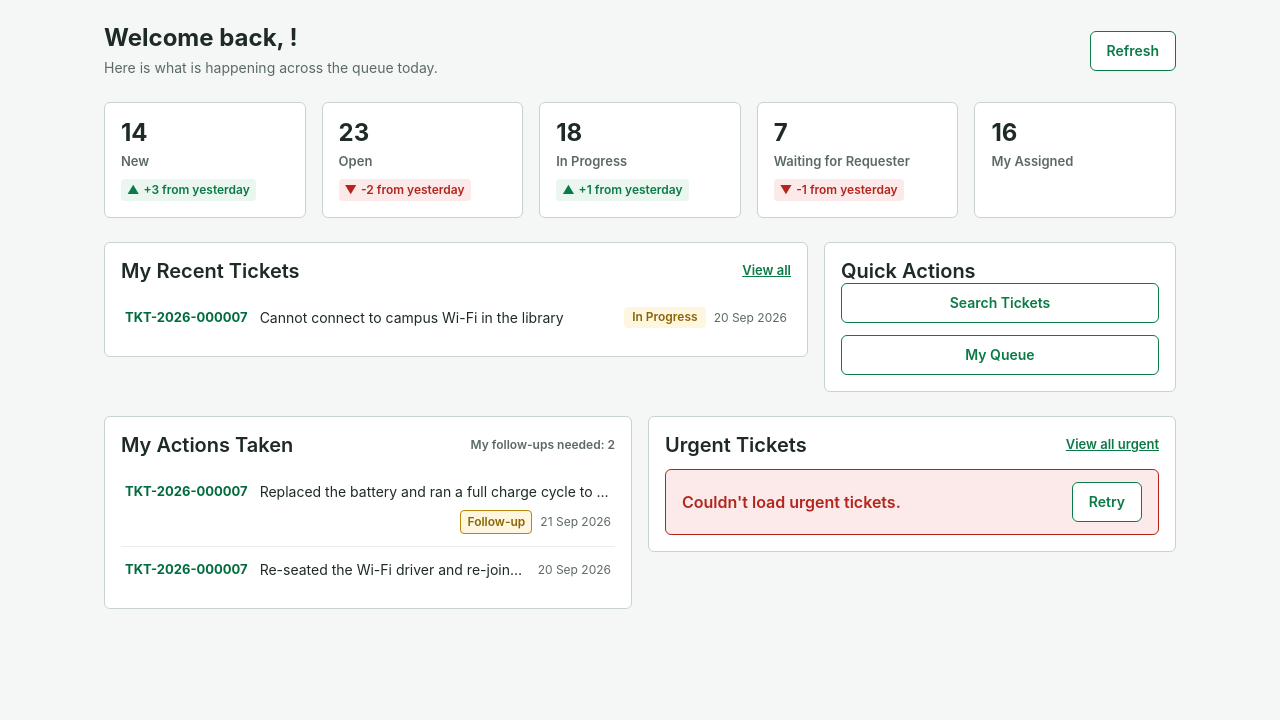
UI-12 — Urgent Tickets panel (FR-18, AC-16) › fails alone: friendly retry here, every other section still renders
The width and height of the screenshot is (1280, 720).
Check: the message with test id "urgent-tickets-error" shows "Couldn't load urgent tickets", box [682,492,901,512]
Check: the list with test id "my-actions-list" is shown, box [121,469,615,592]
# Retry recovers only this section.
Step 1. Click the button "Retry" → [1107, 502], box [1072,482,1142,522]
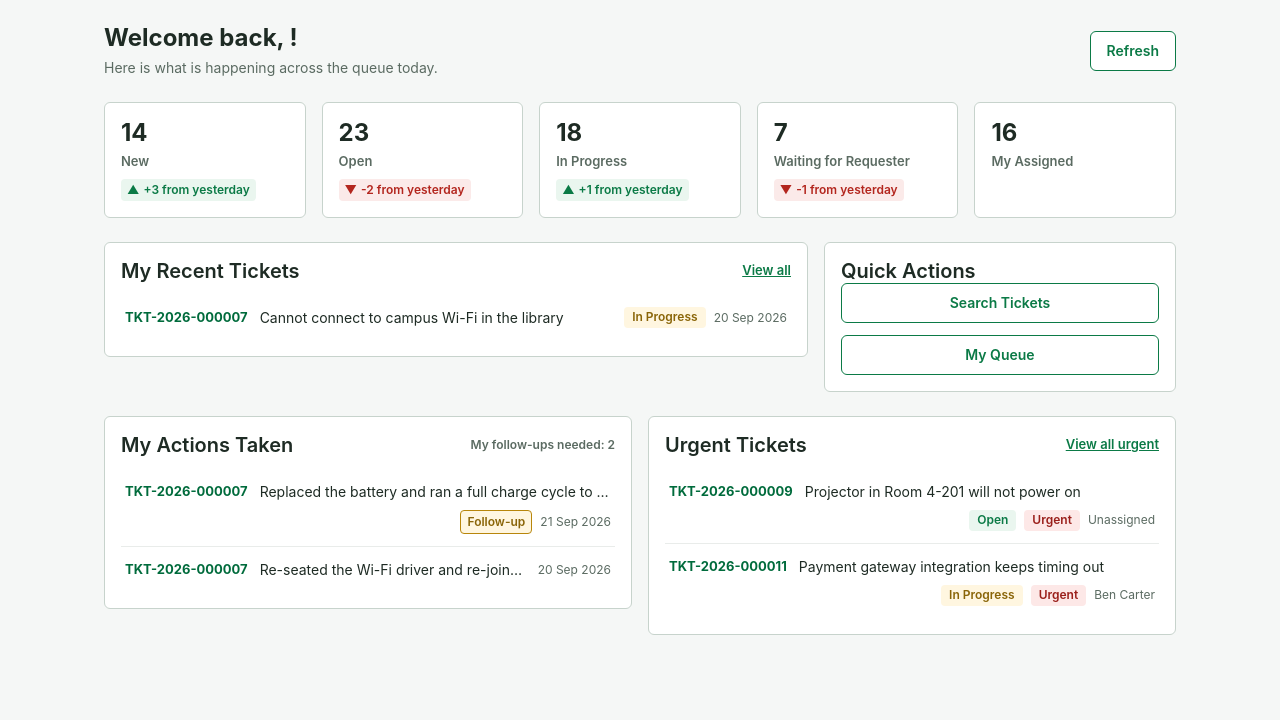
Check: the list with test id "urgent-tickets-list" is shown, box [665,469,1159,618]
